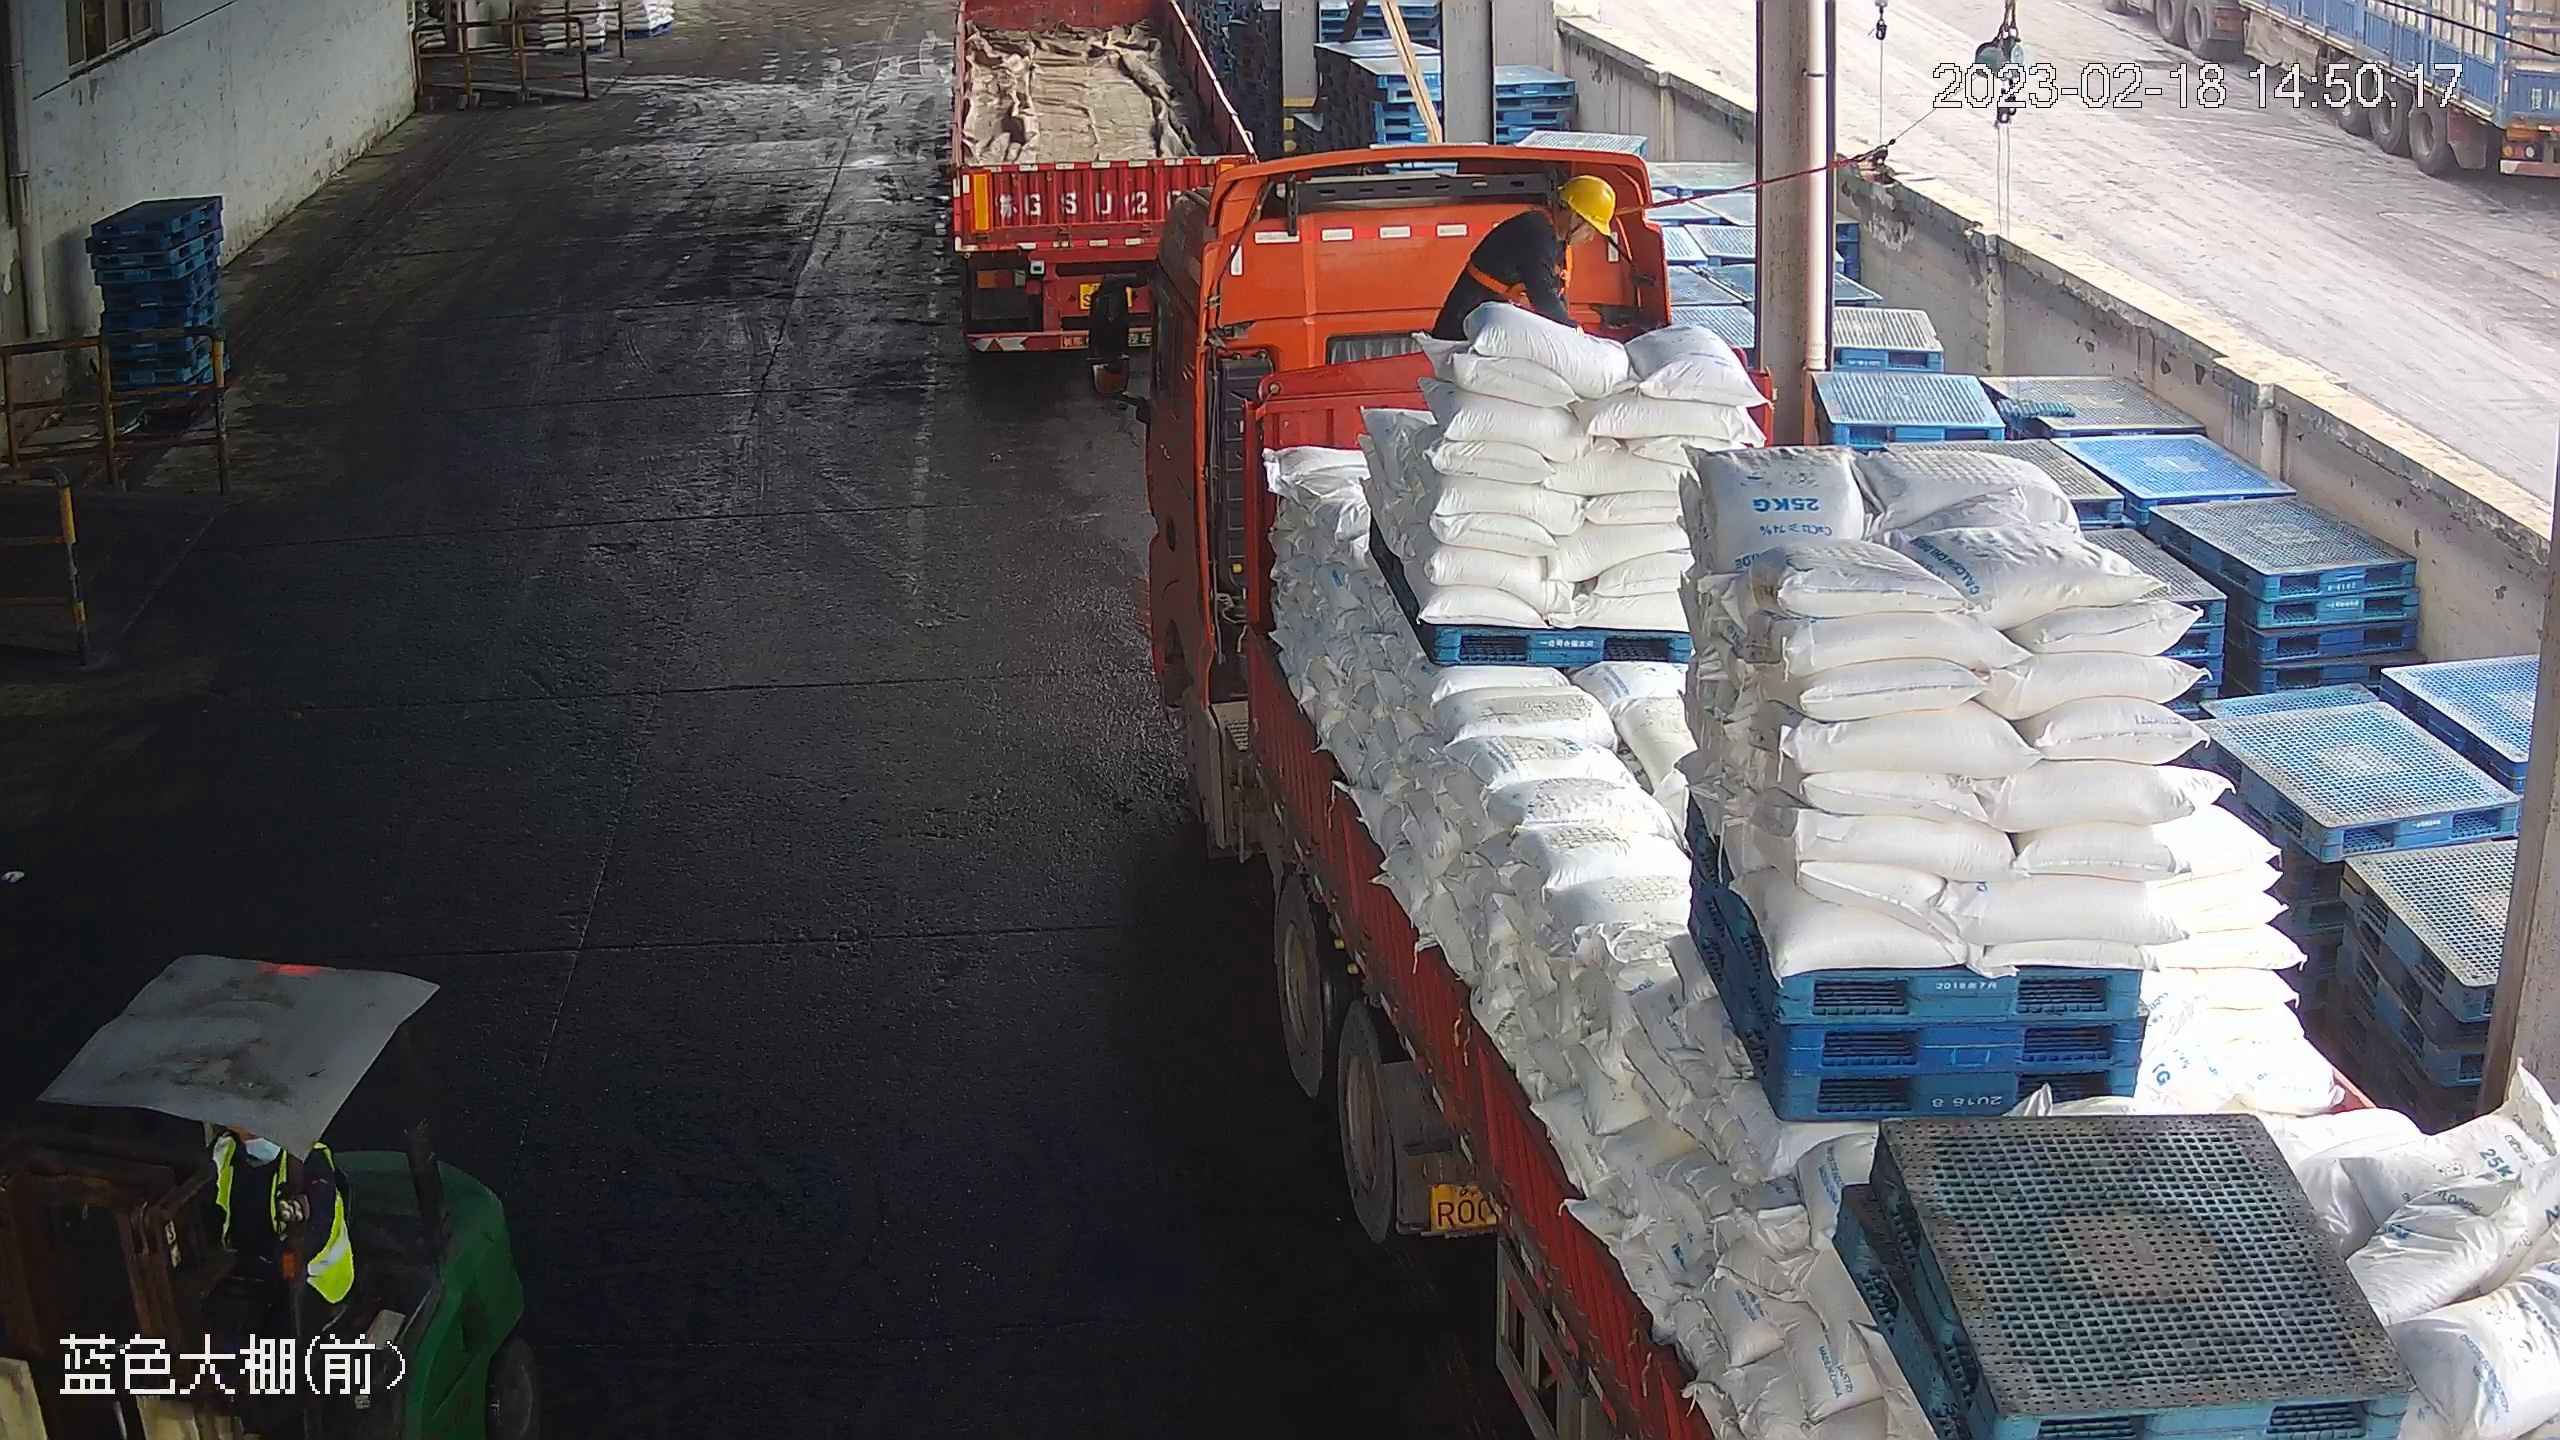belt: (1465, 207, 1557, 299)
head: (1493, 169, 1616, 271)
helmet: (1563, 171, 1619, 236)
people: (1437, 174, 1615, 351)
truck: (1057, 159, 2557, 1440), (912, 1, 1266, 354)
